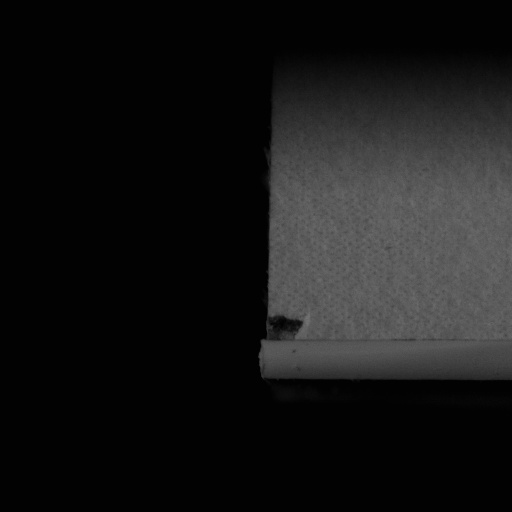bengque: (264, 311, 306, 345)
